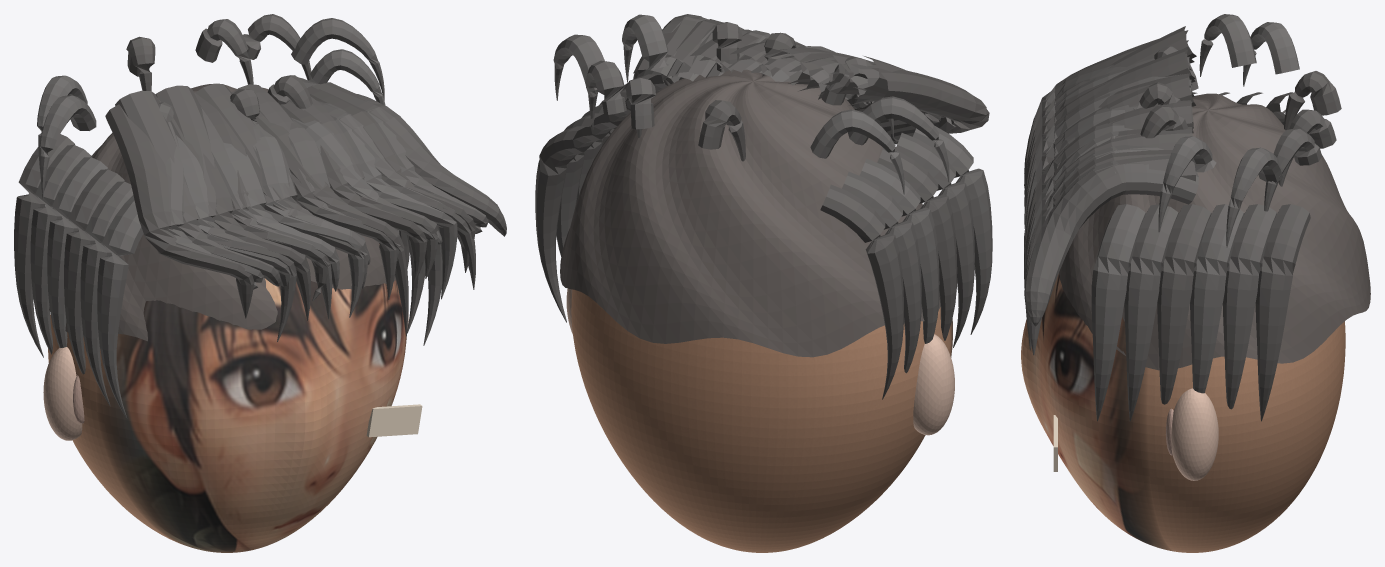
The model's file is afterday_survivor_head_reference_v160.glb.
The picture shows the model from 3 angles, left to right: view 1: azimuth 30°, elevation 25°; view 2: azimuth 150°, elevation 25°; view 3: azimuth 270°, elevation 25°; orthographic projection. The views are drawn at different scales.
Visible parts, largest first — view 1: 01 Face continuous UV sculpt, 02 Hair sculpt, 10_Hair_00, 20_Temple_-1_05, 10_Hair_05, 10_Hair_21, 10_Hair_01, 20_Temple_-1_04, 20_Temple_-1_03, 20_Temple_-1_01, 10_Hair_11, 20_Temple_-1_02 (+32 smaller); view 2: 02 Hair sculpt, 01 Face continuous UV sculpt, 20_Temple_-1_00, 20_Temple_-1_01, 20_Temple_-1_04, 20_Temple_1_00, 20_Temple_-1_02, 20_Temple_-1_03, 20_Temple_-1_05, 10_Hair_00, 03 -1 Ear, 11_Flyaway_07 (+18 smaller); view 3: 01 Face continuous UV sculpt, 02 Hair sculpt, 10_Hair_21, 20_Temple_1_05, 20_Temple_1_00, 20_Temple_1_01, 20_Temple_1_03, 20_Temple_1_04, 20_Temple_1_02, 03 +1 Ear, 10_Hair_22, 11_Flyaway_06 (+29 smaller).
Part boxes in pixels (<box>): 01 Face continuous UV sculpt: <box>48,244,406,552</box>; 02 Hair sculpt: <box>49,83,395,341</box>; 10_Hair_00: <box>105,104,254,318</box>; 20_Temple_-1_05: <box>97,195,143,418</box>; 10_Hair_05: <box>155,85,296,341</box>; 10_Hair_21: <box>311,82,506,236</box>; 10_Hair_01: <box>115,90,280,286</box>; 20_Temple_-1_04: <box>80,181,133,406</box>; 20_Temple_-1_03: <box>64,169,125,374</box>; 20_Temple_-1_01: <box>30,145,91,354</box>; 10_Hair_11: <box>255,129,364,317</box>; 20_Temple_-1_02: <box>47,157,108,347</box>; 02 Hair sculpt: <box>560,69,940,357</box>; 01 Face continuous UV sculpt: <box>571,289,952,552</box>; 20_Temple_-1_00: <box>820,184,903,399</box>; 20_Temple_-1_01: <box>842,171,921,373</box>; 20_Temple_-1_04: <box>895,133,974,347</box>; 20_Temple_1_00: <box>535,126,585,322</box>; 20_Temple_-1_02: <box>859,158,939,343</box>; 20_Temple_-1_03: <box>877,148,957,340</box>; 20_Temple_-1_05: <box>912,125,992,334</box>; 10_Hair_00: <box>871,68,989,133</box>; 03 -1 Ear: <box>913,334,954,435</box>; 11_Flyaway_07: <box>810,109,904,194</box>; 01 Face continuous UV sculpt: <box>1021,273,1345,552</box>; 02 Hair sculpt: <box>1059,93,1370,370</box>; 10_Hair_21: <box>1024,155,1195,326</box>; 20_Temple_1_05: <box>1091,204,1145,421</box>; 20_Temple_1_00: <box>1255,204,1310,421</box>; 20_Temple_1_01: <box>1222,204,1276,409</box>; 20_Temple_1_03: <box>1157,204,1211,404</box>; 20_Temple_1_04: <box>1124,204,1178,421</box>; 20_Temple_1_02: <box>1190,204,1244,393</box>; 03 +1 Ear: <box>1171,388,1218,480</box>; 10_Hair_22: <box>1024,160,1198,287</box>; 11_Flyaway_06: <box>1226,147,1283,247</box>.
Size of the model in its own units: 0.8832 by 1.06 by 0.7145.
13 materials, 1 textured.
